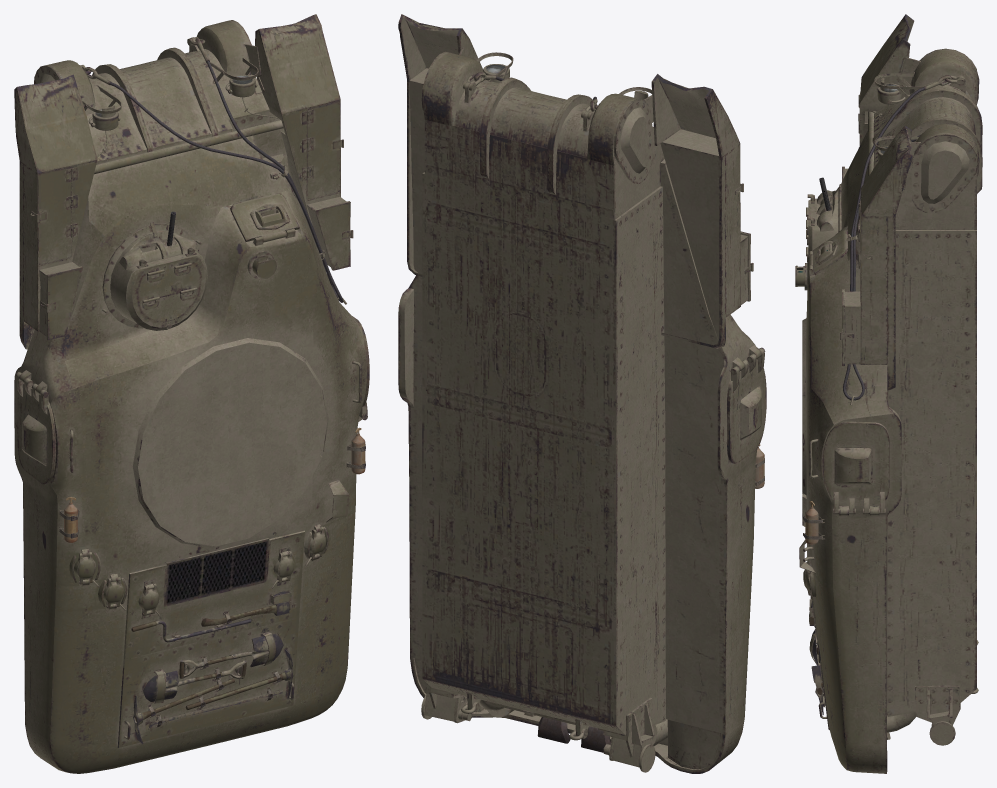
Rendered from Hull.glb.
The picture shows the model from 3 angles, left to right: view 1: azimuth 30°, elevation 25°; view 2: azimuth 150°, elevation 25°; view 3: azimuth 270°, elevation 25°; orthographic projection. The views are drawn at different scales.
Visible parts, largest first — view 1: set_0_group_0; view 2: set_0_group_0; view 3: set_0_group_0.
Boxes of the visible parts, <box> form: set_0_group_0: <box>14,14,369,773</box>; set_0_group_0: <box>398,14,766,773</box>; set_0_group_0: <box>795,14,982,773</box>.
Bounding box in the file's own units: 2.92 × 5.69 × 1.51.
Materials: 1 (1 with a texture image).
